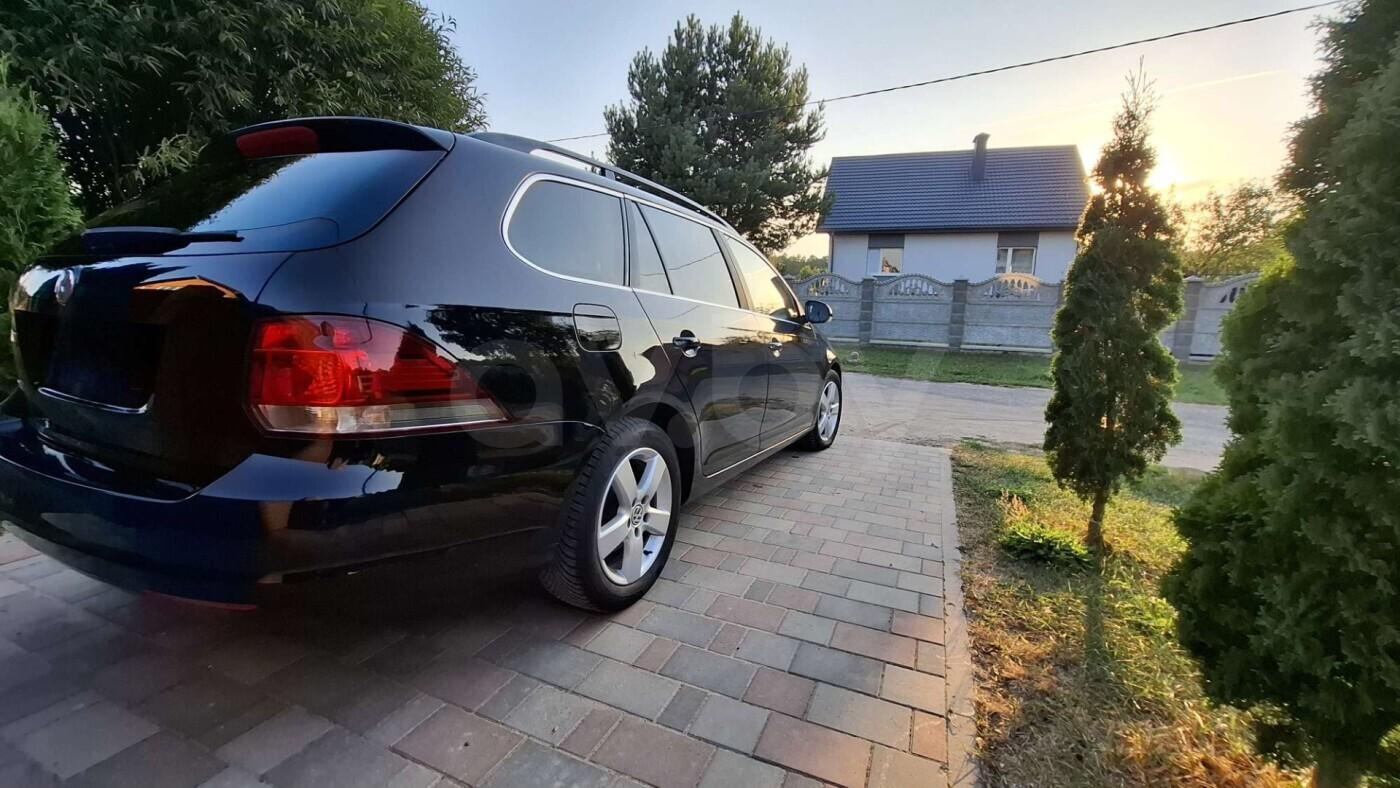Golf_2008-2013: (0, 111, 847, 645)
